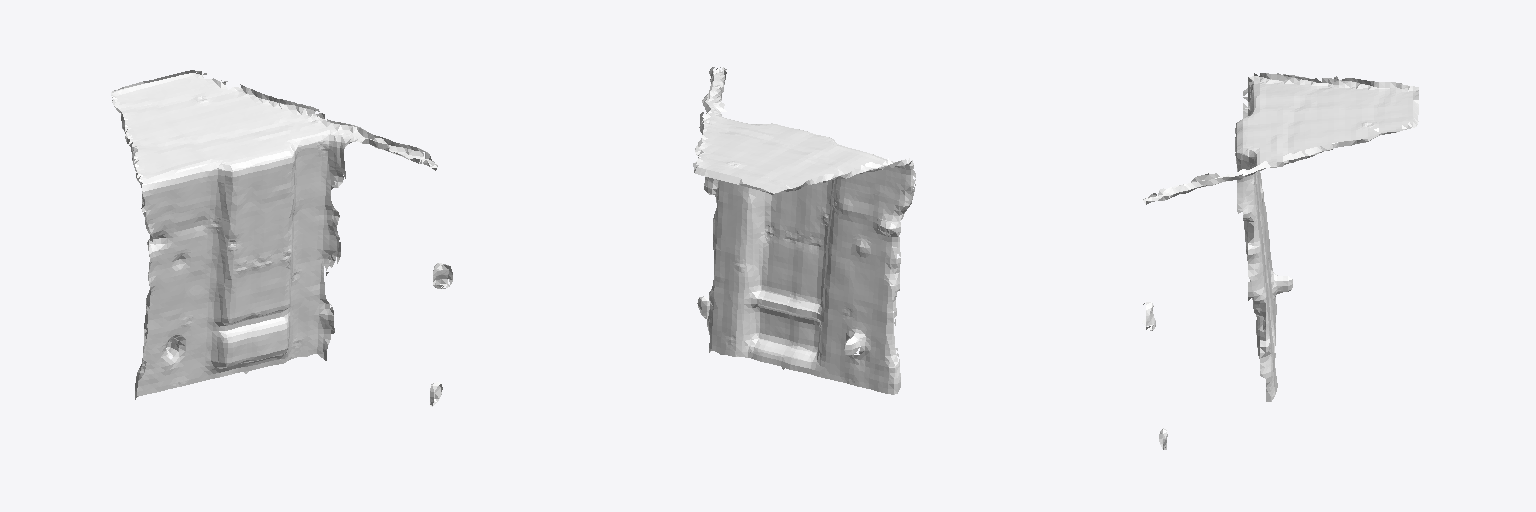
Rendered from RampEntryR.obj.
The picture shows the model from 3 angles: view 1: azimuth 30°, elevation 25°; view 2: azimuth 150°, elevation 25°; view 3: azimuth 270°, elevation 25°; orthographic projection.
Bounding box in the file's own units: 3.48 × 3.49 × 3.22.